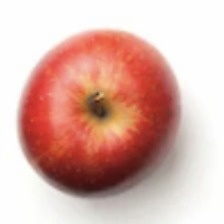apple: (30, 43, 193, 180)
